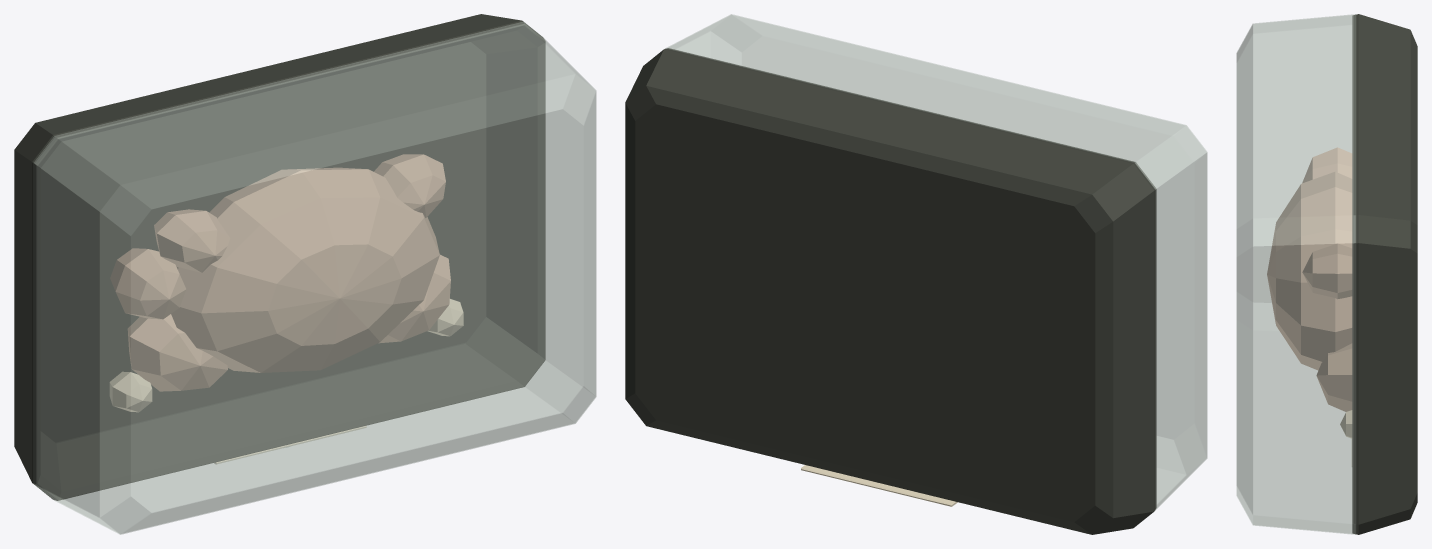
The model's file is turkey.glb.
3 renders of one model, left to right at view 1: azimuth 30°, elevation 25°; view 2: azimuth 150°, elevation 25°; view 3: azimuth 270°, elevation 25°, orthographic. The views are drawn at different scales.
Parts seen in each view (by area): view 1: turkey; view 2: turkey; view 3: turkey.
Boxes of the visible parts, x1,y1,x2,y2 form: turkey: (14,14,596,534); turkey: (625,14,1207,534); turkey: (1236,14,1417,534).
Bounding box in the file's own units: 0.22 × 0.152 × 0.077.
